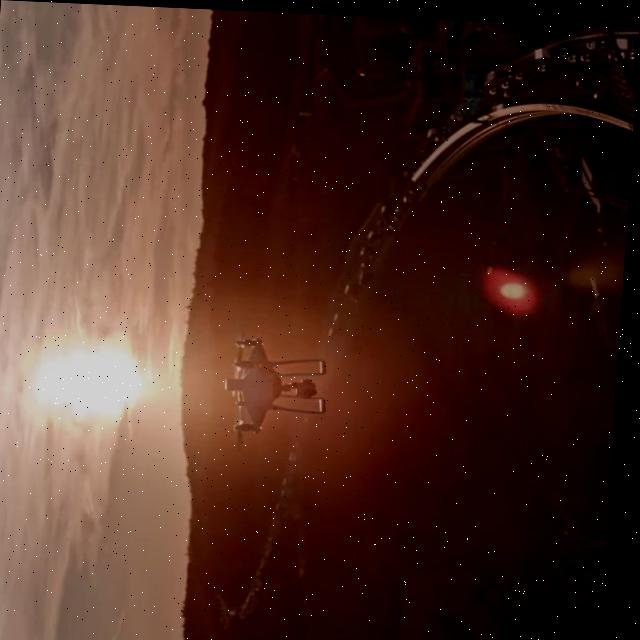drone: (222, 320, 339, 453)
